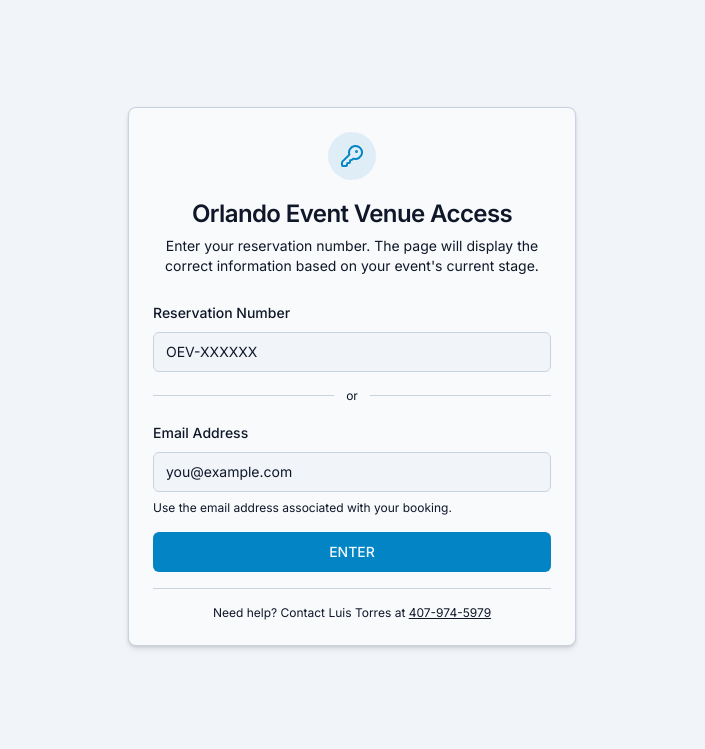
AccessCode — STATE 2 (access released) › renders all nine checklist items
In the field labelled "Reservation Number": (352, 352) x1=153 y1=332 x2=551 y2=372, type "OEV-TEST01"
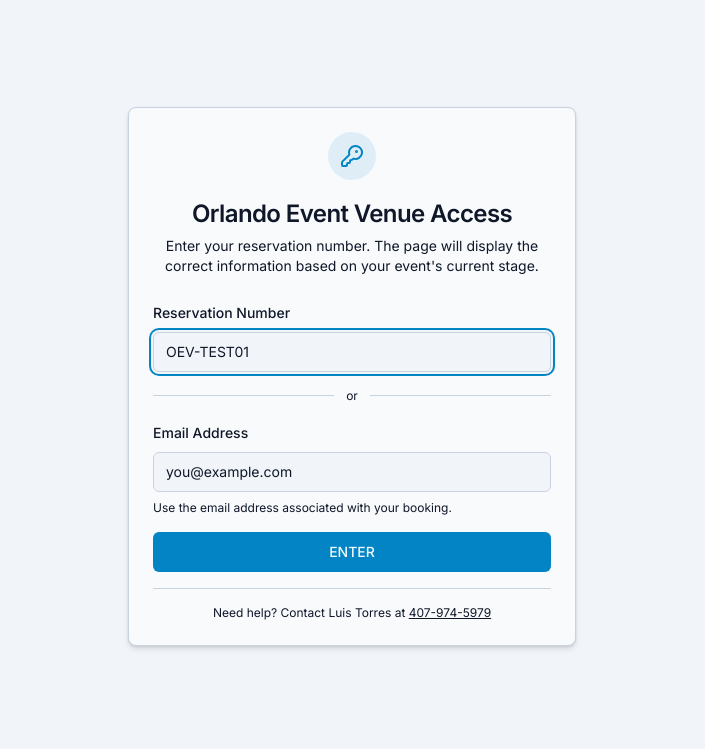
Click the button "ENTER": (352, 552) x1=153 y1=532 x2=551 y2=572
(page scrolled)
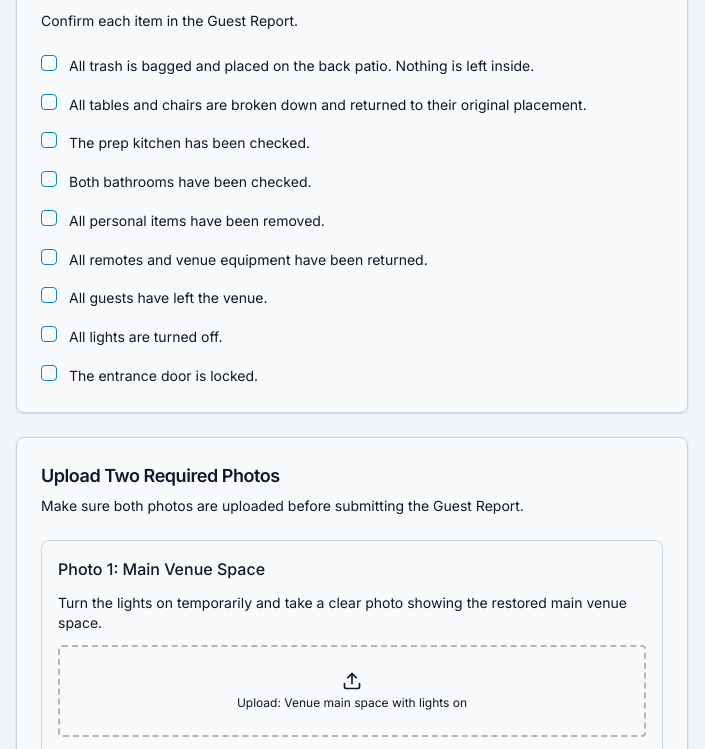
Check: the text "All trash is bagged and placed on the back patio" is shown, box x1=69 y1=57 x2=534 y2=74
Check: the text "tables and chairs are broken down" is shown, box x1=69 y1=96 x2=587 y2=112
Check: the text "The prep kitchen has been checked." is shown, box x1=69 y1=132 x2=310 y2=155
